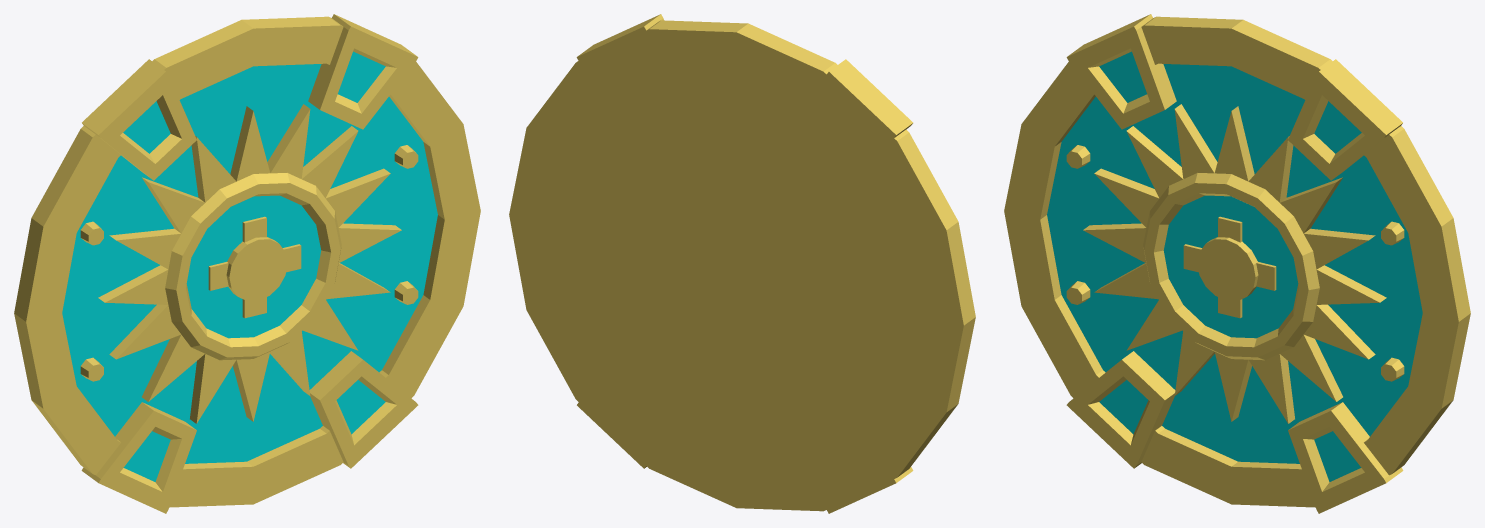
Rendered from Sun.fbx.
3 renders of one model, left to right at view 1: azimuth 30°, elevation 25°; view 2: azimuth 150°, elevation 25°; view 3: azimuth 330°, elevation 25°, orthographic.
Visible parts, largest first — view 1: Prop_Jungle_Temple_Ornament_Sun_Disc_Gold_Gem_01, Prop_Jungle_Temple_Ornament_Sun_Disc_Gold_Gem_01.001; view 2: Prop_Jungle_Temple_Ornament_Sun_Disc_Gold_Gem_01; view 3: Prop_Jungle_Temple_Ornament_Sun_Disc_Gold_Gem_01, Prop_Jungle_Temple_Ornament_Sun_Disc_Gold_Gem_01.001.
Part boxes in pixels (x1,y1,x2,y2): Prop_Jungle_Temple_Ornament_Sun_Disc_Gold_Gem_01: [14, 14, 480, 513]; Prop_Jungle_Temple_Ornament_Sun_Disc_Gold_Gem_01.001: [62, 51, 437, 481]; Prop_Jungle_Temple_Ornament_Sun_Disc_Gold_Gem_01: [509, 14, 975, 513]; Prop_Jungle_Temple_Ornament_Sun_Disc_Gold_Gem_01: [1004, 14, 1470, 513]; Prop_Jungle_Temple_Ornament_Sun_Disc_Gold_Gem_01.001: [1047, 51, 1422, 481].
Bounding box in the file's own units: 257 × 257 × 16.72.
